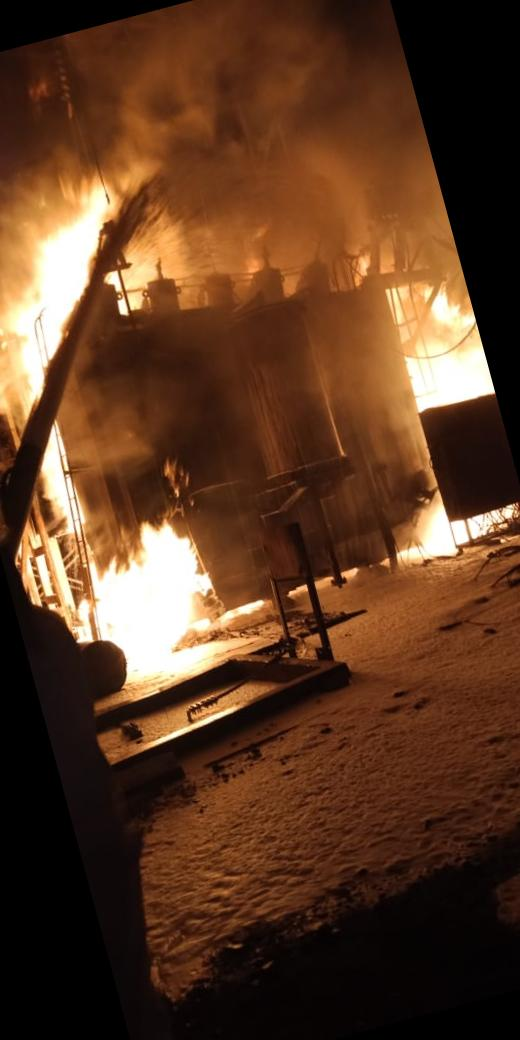Fire: (69, 0, 452, 315), (0, 395, 236, 704), (0, 171, 195, 396), (382, 267, 496, 416), (378, 471, 520, 572)
